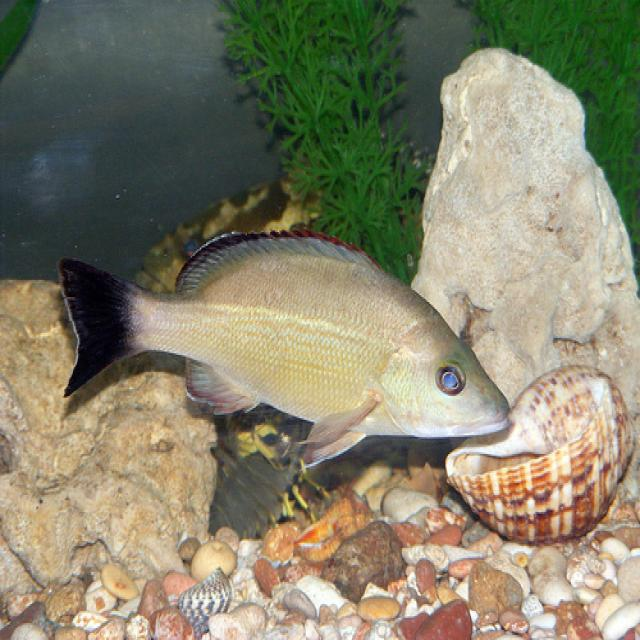ikan: (56, 223, 511, 472)
